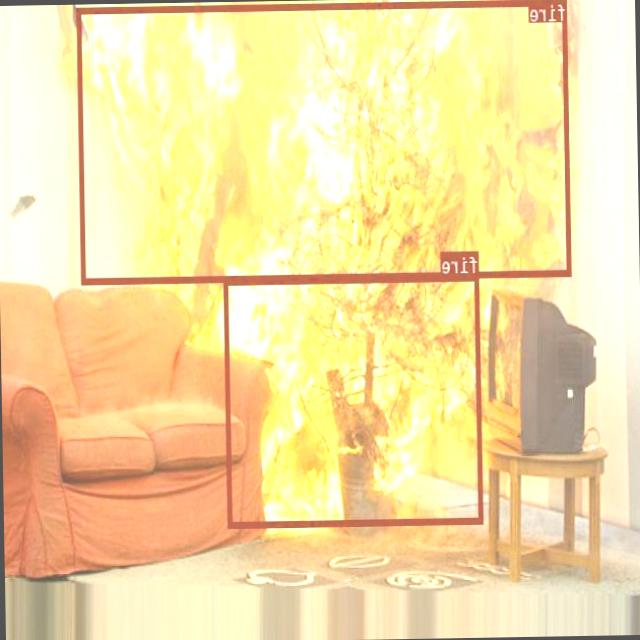fire: (77, 0, 572, 282), (224, 274, 484, 527)
